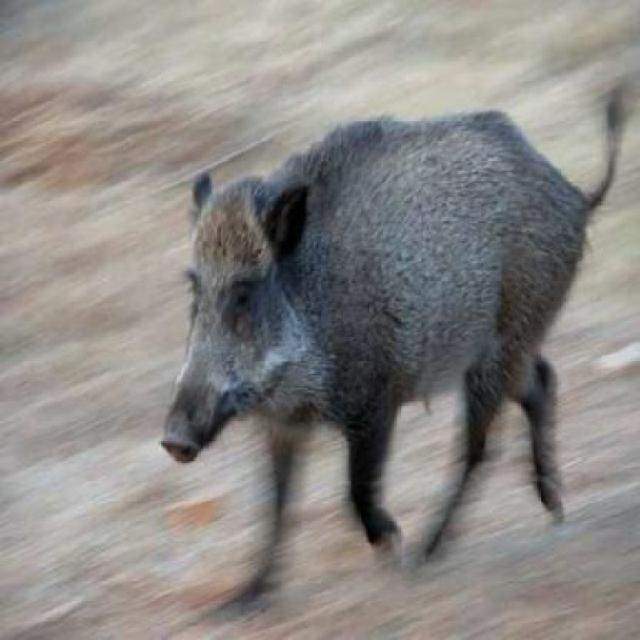Boar: (101, 41, 640, 592)
